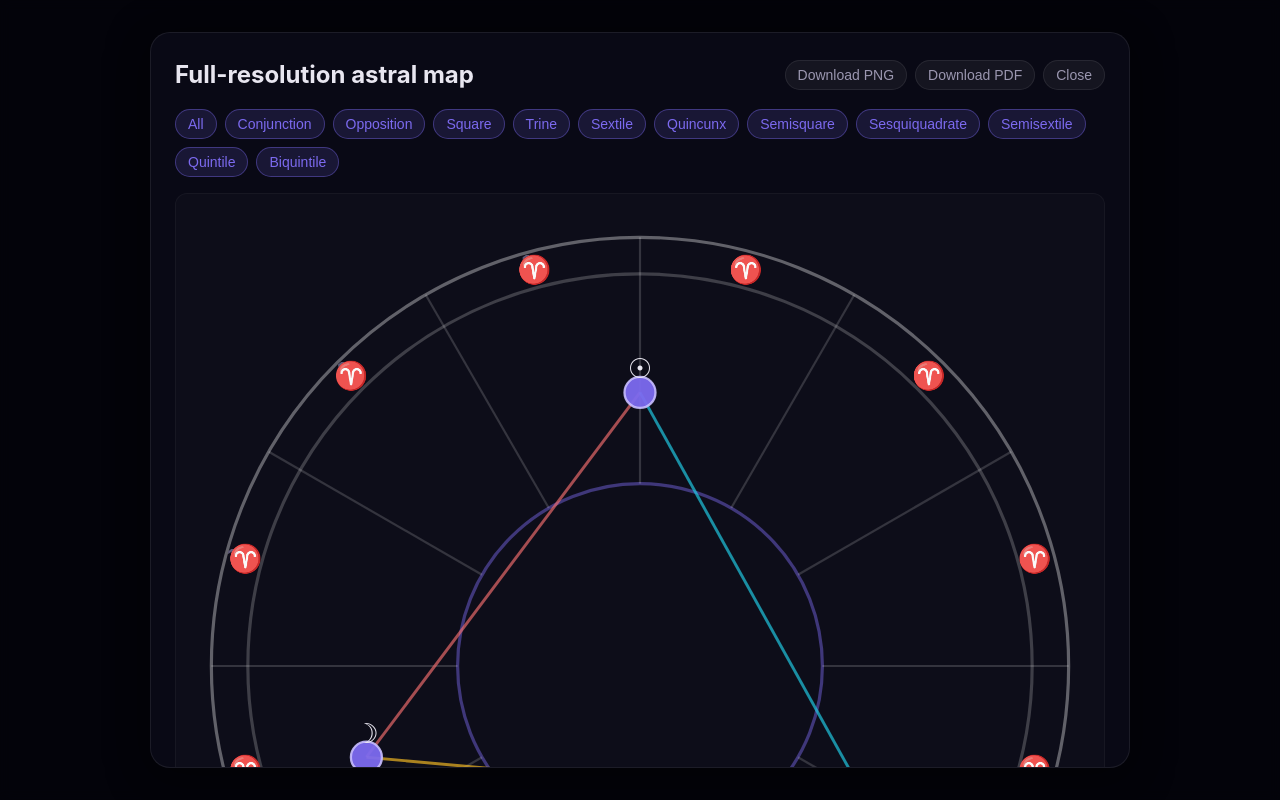
Test: AstralMapModal › exports PNG and shows success feedback
This screenshot has width=1280, height=800.
Click the button "Download PNG" at (846, 75), box [784,60,907,90]
(page scrolled)
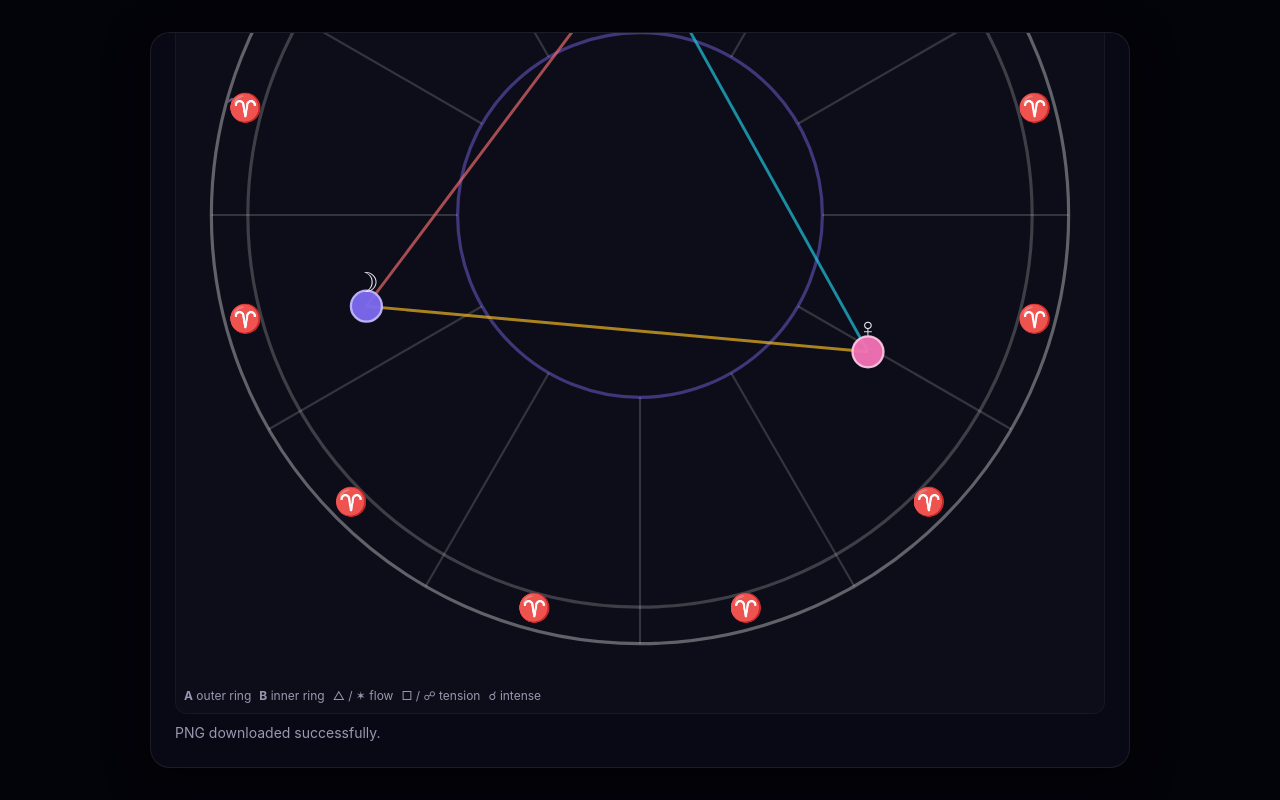
Now the text "PNG downloaded successfully." is shown, box [175,724,380,741]
